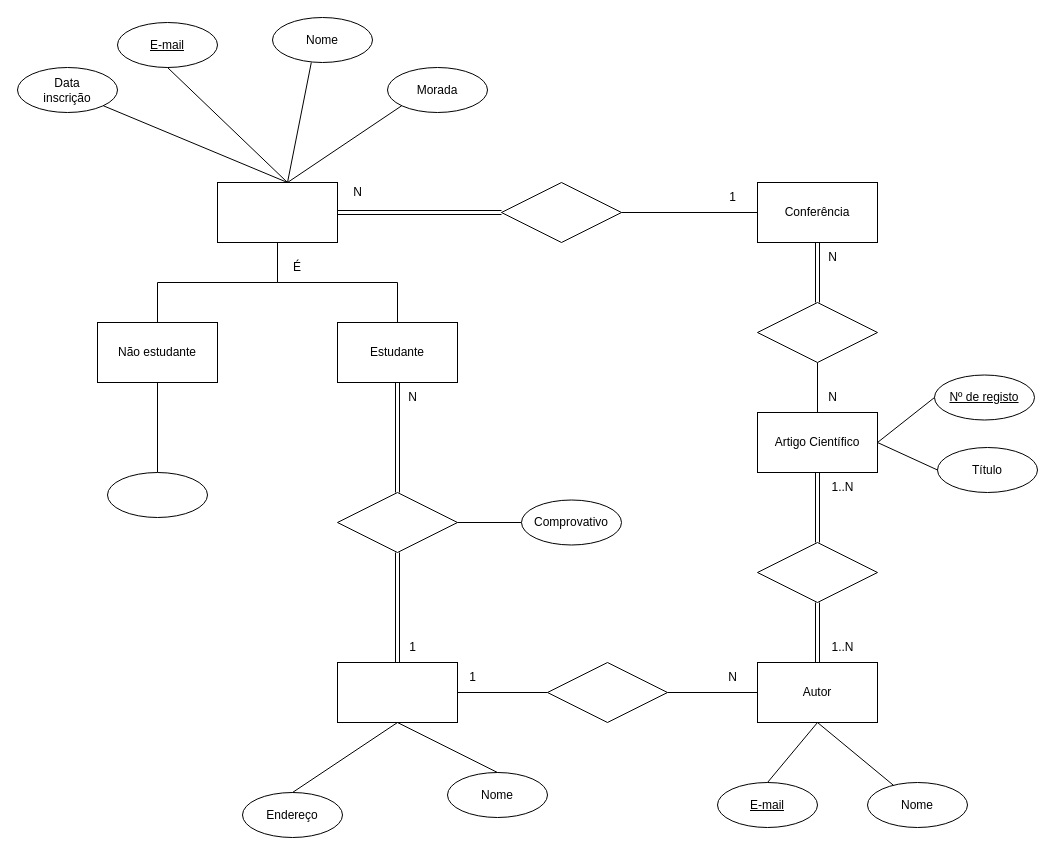
Image size: 1055x855. Some labels were removed from this diagram. The box of each missing label's shape, as (x1, y1, x2, y2) in pixels:
Apresenta: (756, 302, 878, 362)
Frequenta: (336, 492, 458, 552)
Instituição: (336, 662, 458, 722)
Participa: (500, 182, 622, 242)
Participante: (216, 182, 338, 242)
Pertence: (546, 662, 668, 722)
Ref. Transação: (106, 472, 208, 518)
Tem: (756, 542, 878, 602)
